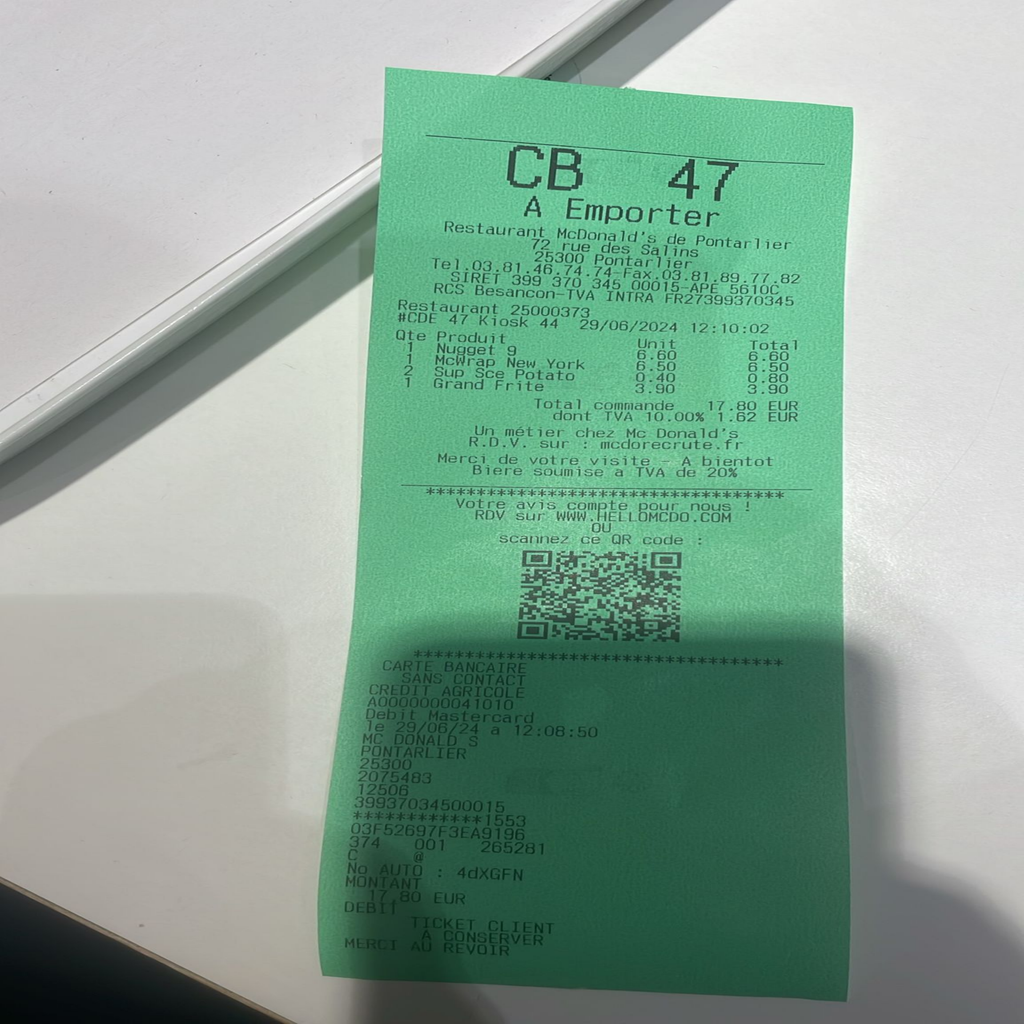recipt: (319, 69, 852, 1005)
